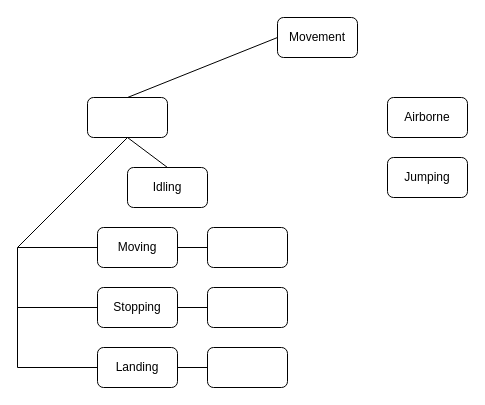
This 485x405 diagram has some shape labels left out. The shapes that lost their labels are listed below. From the top down, each one's centre as x and y in pixels, then its label:
the point at 127,117: Grounded
the point at 247,247: Running
the point at 247,307: Medium Stopping
the point at 247,367: Medium Landing
